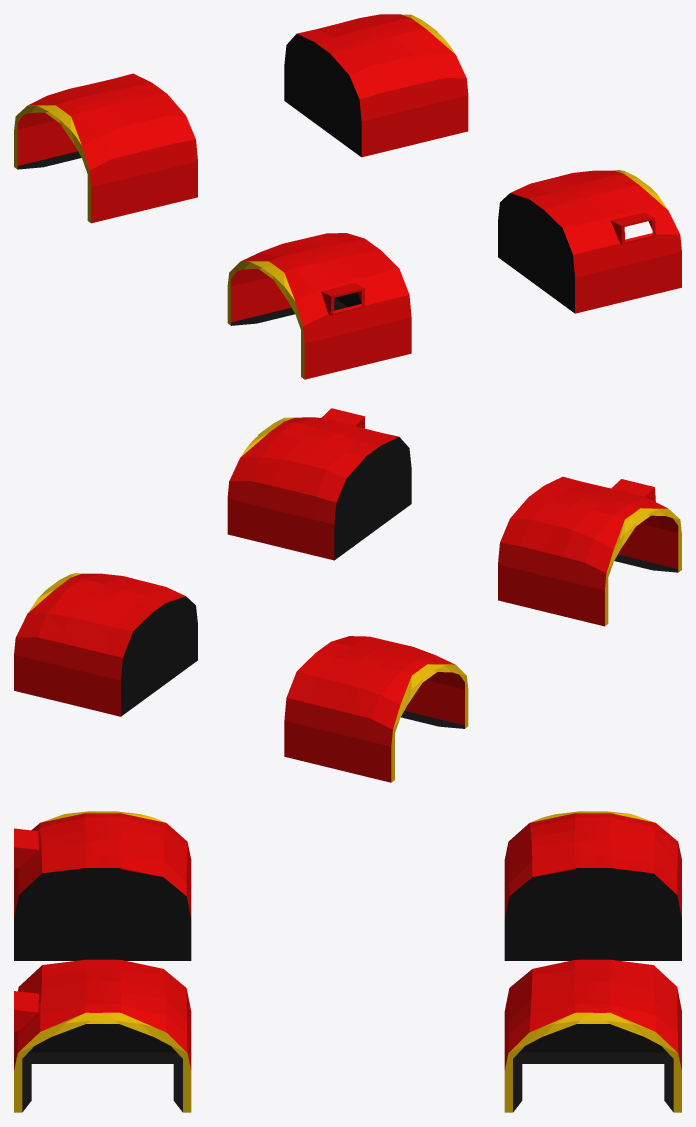
The model's file is C0.Cowl.1c.Export.glb.
3 views of the same model, one above another, from view 1: azimuth 30°, elevation 25°; view 2: azimuth 150°, elevation 25°; view 3: azimuth 270°, elevation 25° (orthographic). The views are drawn at different scales.
Visible parts, largest first — view 1: Cube.003; view 2: Cube.003; view 3: Cube.003.
Part boxes in pixels (x1,y1,x2,y2): Cube.003: (14,14,681,379); Cube.003: (14,408,681,782); Cube.003: (14,811,681,1112).
Size of what is drawn, in the model's own units: 2.65 by 0.5612 by 3.53.
